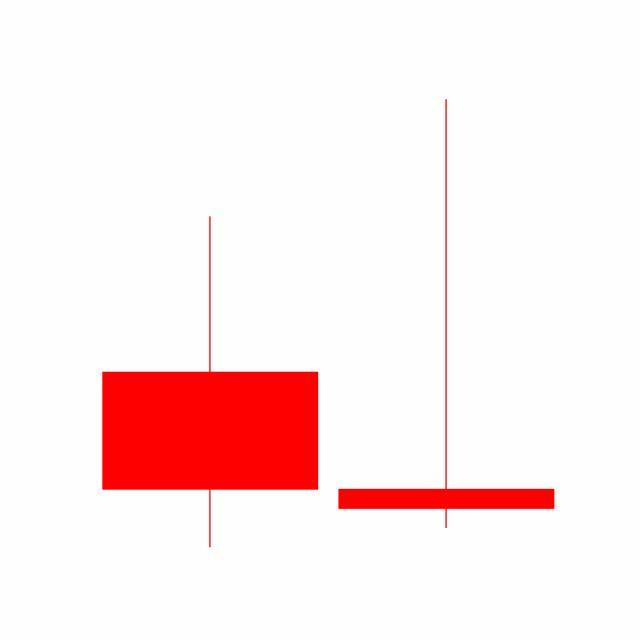Gravestone Doji: (328, 94, 566, 533)
